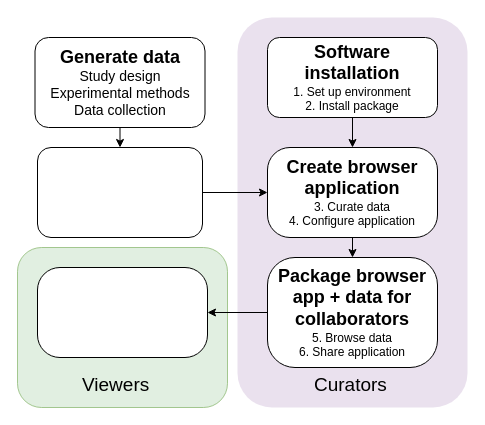
Some shapes in this 485 by 425 pixel diagram are drawn without their labels. Each missing label, with the box of its shape:
Analyze data Preprocess data Normalize data Statistical comparisons: (36, 146, 202, 238)
Browse data! Visualize data Extract subsets of data Test hypotheses: (36, 266, 208, 358)
